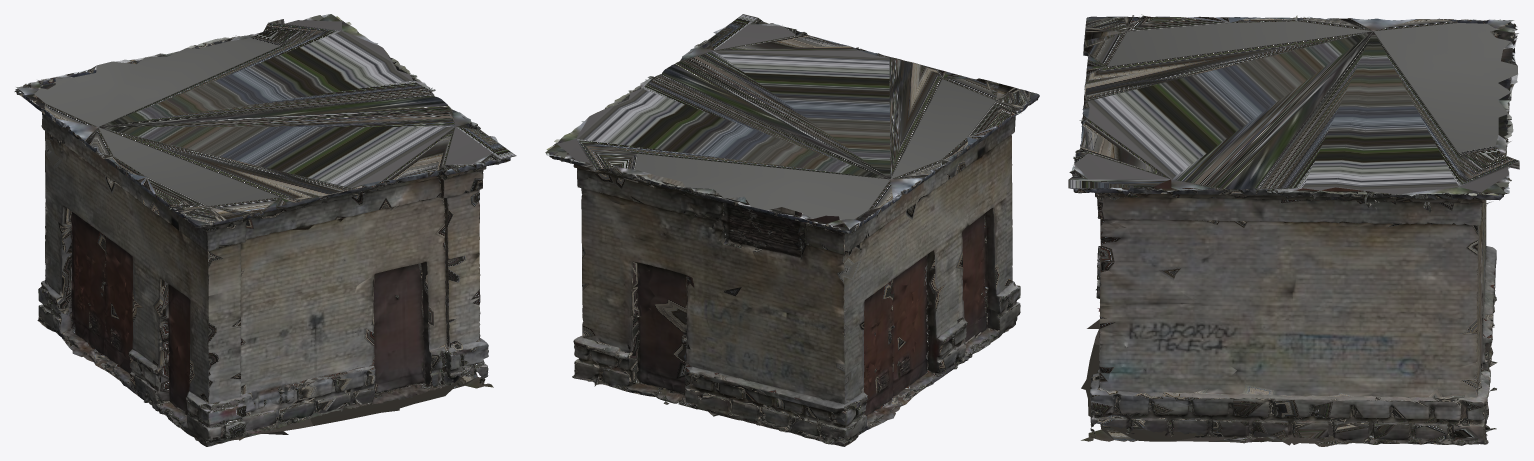
The model's file is SM_SubstationHouse.glb.
3 views of the same model, side by side, from view 1: azimuth 30°, elevation 25°; view 2: azimuth 150°, elevation 25°; view 3: azimuth 270°, elevation 25° (orthographic). The views are drawn at different scales.
Parts seen in each view (by area): view 1: SM_SubstationHouse; view 2: SM_SubstationHouse; view 3: SM_SubstationHouse.
Part boxes in pixels (x1,y1,x2,y2): SM_SubstationHouse: [14, 14, 516, 446]; SM_SubstationHouse: [545, 14, 1039, 446]; SM_SubstationHouse: [1068, 14, 1519, 446].
Size of the model in its own units: 4.45 by 3 by 4.68.
Materials: 1 (1 with a texture image).
